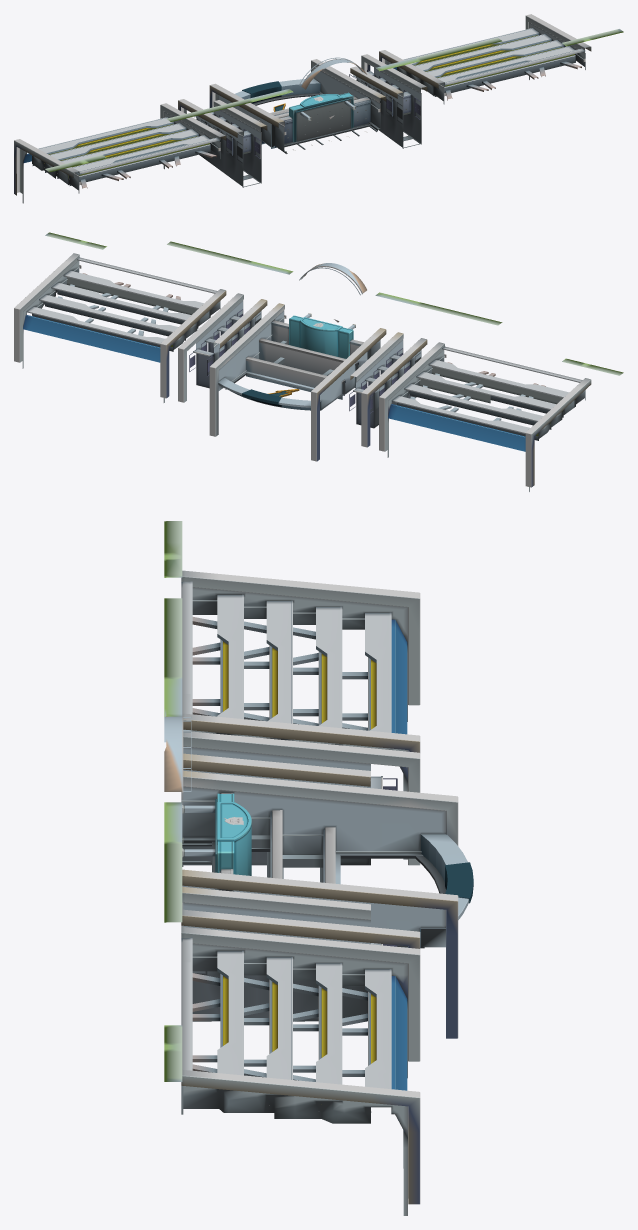
The model's file is SM_000546_merge_w40h001f_at01.fbx.
3 renders of one model, top to bottom at view 1: azimuth 30°, elevation 25°; view 2: azimuth 150°, elevation 25°; view 3: azimuth 270°, elevation 25°, orthographic. The views are drawn at different scales.
Parts seen in each view (by area): view 1: SM_000546.001; view 2: SM_000546.001; view 3: SM_000546.001.
Boxes of the visible parts, box(x1,y1,x2,y2) form: SM_000546.001: box(14, 14, 623, 203); SM_000546.001: box(14, 232, 623, 491); SM_000546.001: box(164, 521, 473, 1215).
Bounding box in the file's own units: 140 × 30.55 × 32.66.
